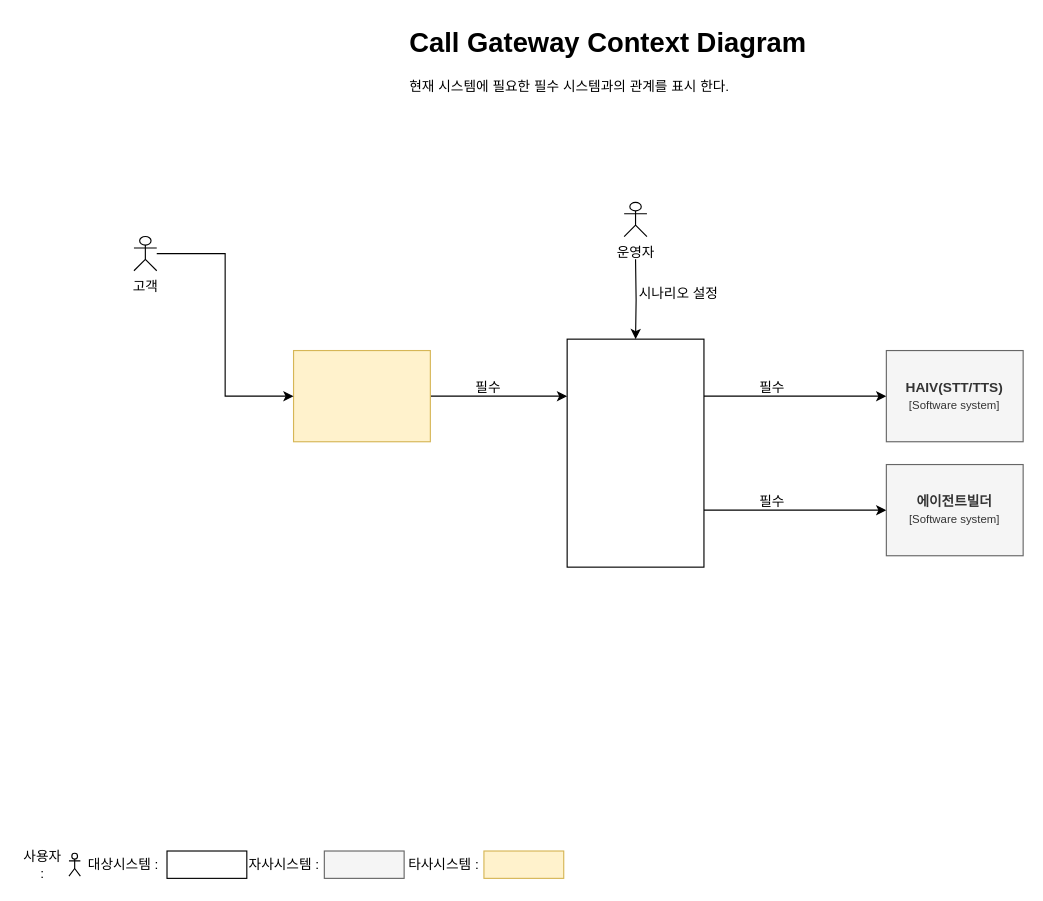
The diagram is 1043 pixels wide and 901 high, and some of its shapes have lost their labels. The box of each missing label's shape, as (x1, y1, x2, y2) in pixels:
Call Gateway [Software system]: (566, 338, 704, 567)
PSTN [Software system]: (292, 349, 430, 442)
